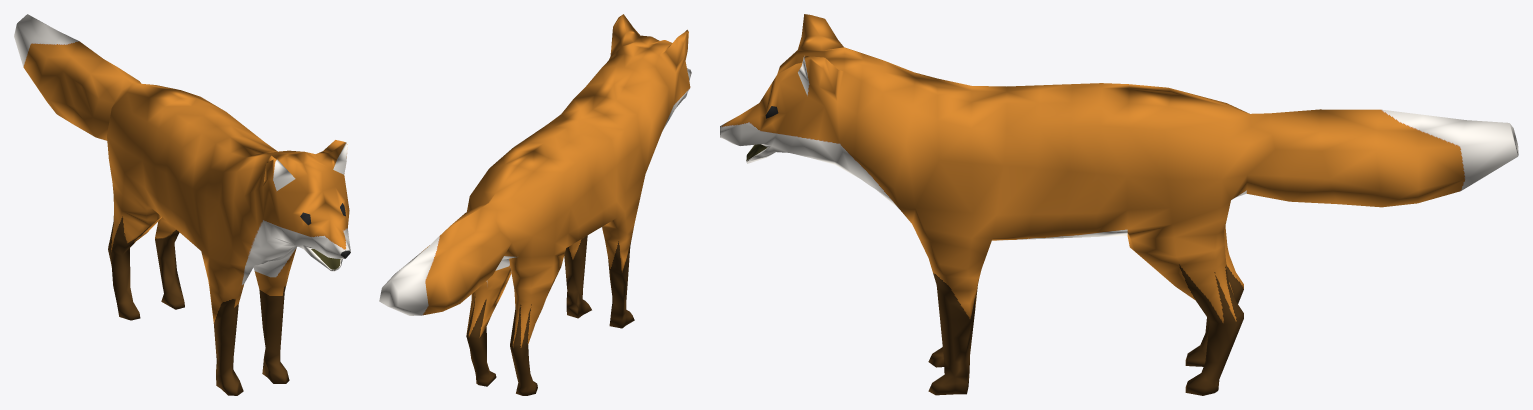
File: fox.glb
The picture shows the model from 3 angles, left to right: view 1: azimuth 30°, elevation 25°; view 2: azimuth 150°, elevation 25°; view 3: azimuth 270°, elevation 25°; orthographic projection. The views are drawn at different scales.
Parts seen in each view (by area): view 1: fox; view 2: fox; view 3: fox.
Boxes of the visible parts, x1=… form: fox: x1=14, y1=14, x2=350, y2=395; fox: x1=379, y1=14, x2=691, y2=395; fox: x1=720, y1=14, x2=1518, y2=395.
Bounding box in the file's own units: 0.5099 × 1.69 × 3.59.
1 material, 1 textured.
